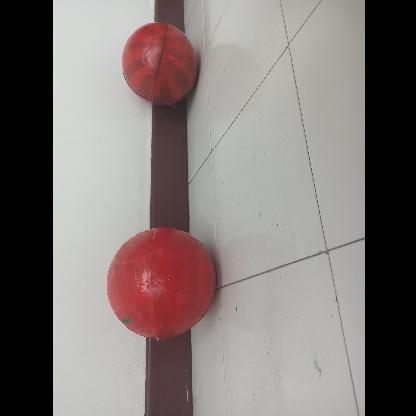red_ball: (105, 227, 215, 337), (118, 22, 198, 102)
